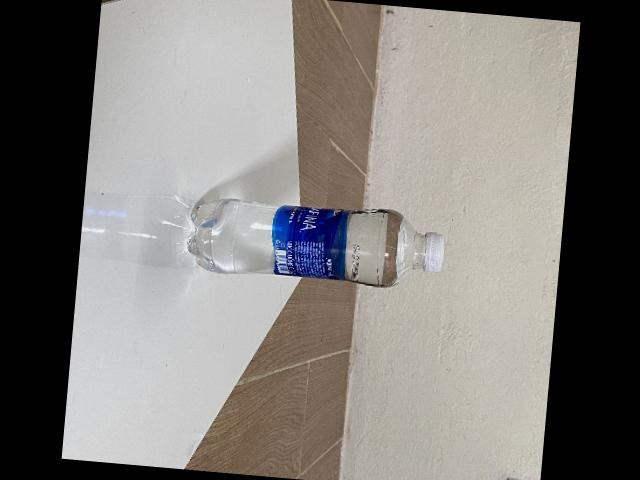aquafina: (184, 198, 443, 287)
